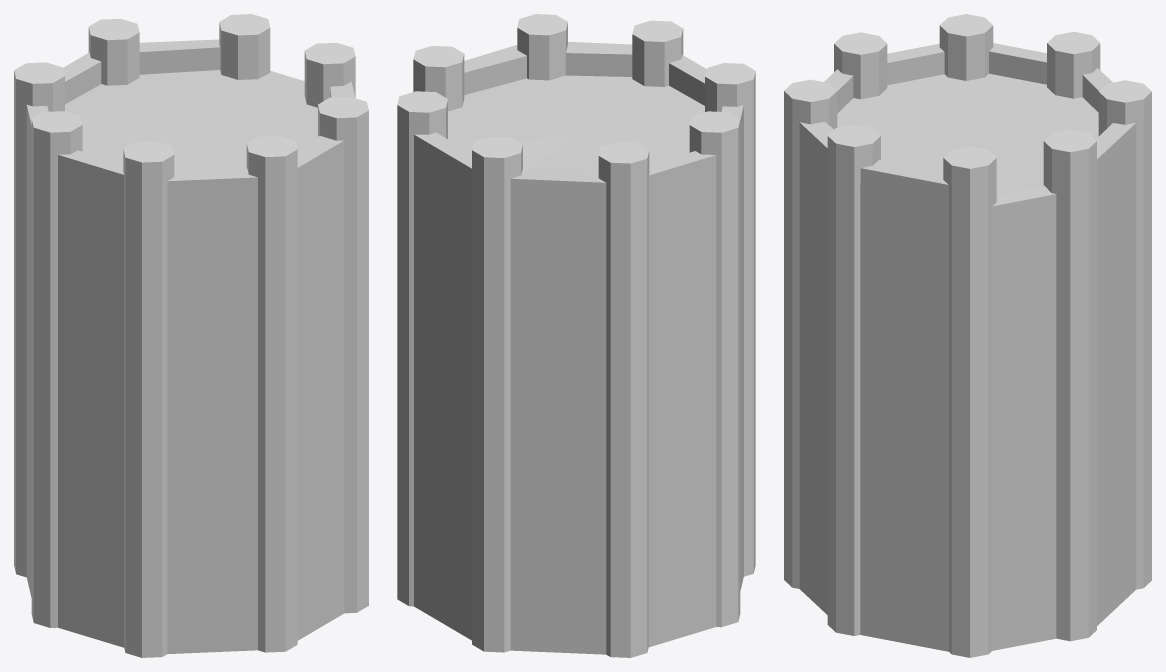
Rendered from tower.fbx.
3 renders of one model, left to right at view 1: azimuth 30°, elevation 25°; view 2: azimuth 150°, elevation 25°; view 3: azimuth 270°, elevation 25°, orthographic.
Parts seen in each view (by area): view 1: Tower, Cube.004, Cube.005, Cube.003, Cube.006, Cube.002, Cube.008, Cube.001, Cube.007; view 2: Tower, Cube.002, Cube.001, Cube.003, Cube.008, Cube.004, Cube.006, Cube.005, Cube.007; view 3: Tower, Cube.007, Cube.008, Cube.006, Cube.001, Cube.005, Cube.003, Cube.002, Cube.004.
Part boxes in pixels (left/top/right/bottom): Tower: left=26, top=39, right=355, bottom=653; Cube.004: left=123, top=141, right=174, bottom=657; Cube.005: left=246, top=135, right=297, bottom=652; Cube.003: left=31, top=111, right=82, bottom=627; Cube.006: left=318, top=96, right=368, bottom=613; Cube.002: left=14, top=62, right=64, bottom=577; Cube.008: left=219, top=14, right=270, bottom=79; Cube.001: left=88, top=18, right=139, bottom=85; Cube.007: left=304, top=42, right=355, bottom=107; Tower: left=414, top=41, right=743, bottom=654; Cube.002: left=598, top=142, right=649, bottom=657; Cube.001: left=472, top=136, right=522, bottom=652; Cube.003: left=689, top=111, right=740, bottom=627; Cube.008: left=397, top=91, right=447, bottom=606; Cube.004: left=705, top=63, right=755, bottom=576; Cube.006: left=517, top=14, right=567, bottom=80; Cube.005: left=632, top=20, right=683, bottom=86; Cube.007: left=413, top=45, right=464, bottom=111; Tower: left=799, top=43, right=1136, bottom=651; Cube.007: left=943, top=146, right=996, bottom=657; Cube.008: left=1043, top=129, right=1096, bottom=641; Cube.006: left=827, top=124, right=880, bottom=635; Cube.001: left=1098, top=80, right=1151, bottom=589; Cube.005: left=784, top=79, right=837, bottom=588; Cube.003: left=939, top=14, right=993, bottom=80; Cube.002: left=1047, top=31, right=1100, bottom=98; Cube.004: left=834, top=32, right=887, bottom=99.
Bounding box in the file's own units: 2990 × 4400 × 3000.
